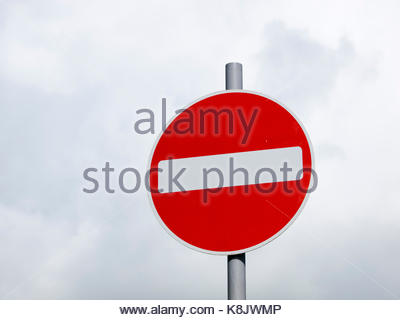No_entry: (144, 89, 316, 255)
